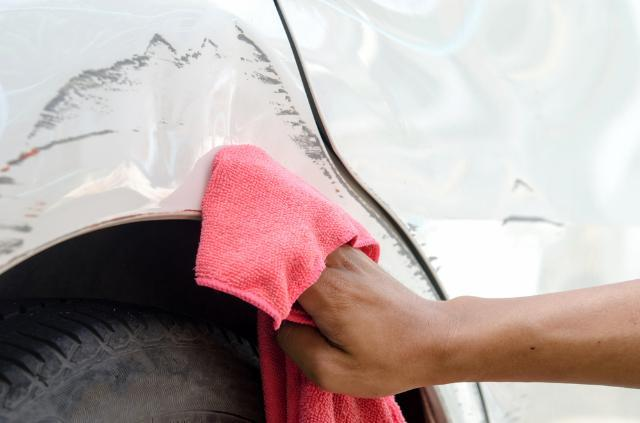dent: (29, 43, 270, 205)
scratch: (234, 24, 436, 293), (0, 149, 46, 275)
